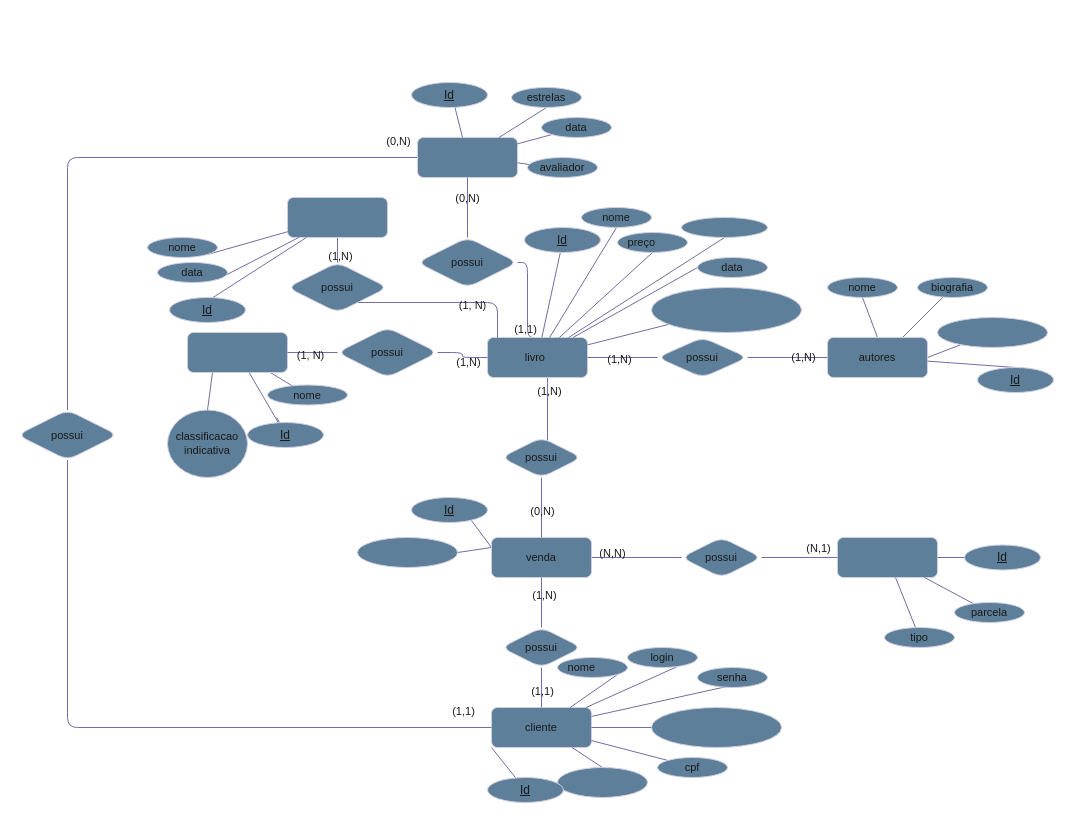
The diagram is 1071 pixels wide and 820 high, and some of its shapes have lost their labels. Here are the shapes that lost their labels. From the top down, the centre of each, then its label:
At (x=467, y=157): "avaliação".
At (x=337, y=217): "editora".
At (x=724, y=227): "quantidade".
At (x=726, y=309): "quantidade de vendas".
At (x=237, y=352): "categoria".
At (x=992, y=332): "data de nascimento".
At (x=407, y=552): "data de emissao".
At (x=887, y=557): "metodo pagamento".
At (x=716, y=727): "quantidade de compra".
At (x=602, y=782): "email".
